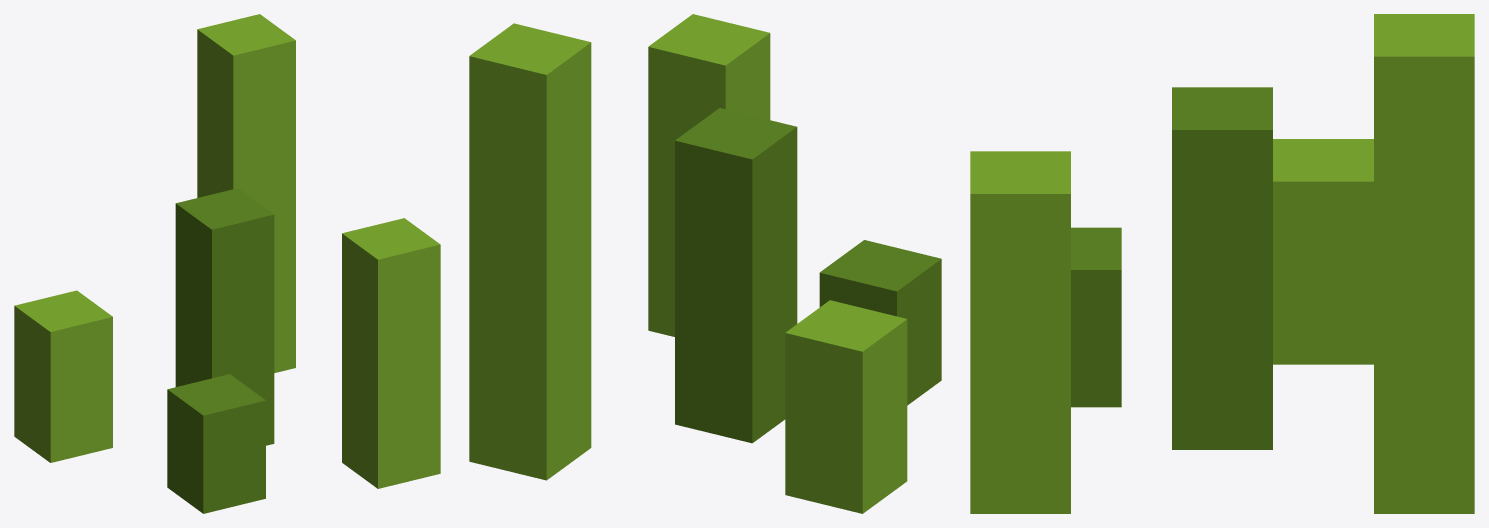
File: grass-2.obj
The picture shows the model from 3 angles, left to right: view 1: azimuth 30°, elevation 25°; view 2: azimuth 150°, elevation 25°; view 3: azimuth 270°, elevation 25°; orthographic projection. The views are drawn at different scales.
Bounding box in the file's own units: 0.9 × 1 × 1.
Materials: 1 (1 with a texture image).
